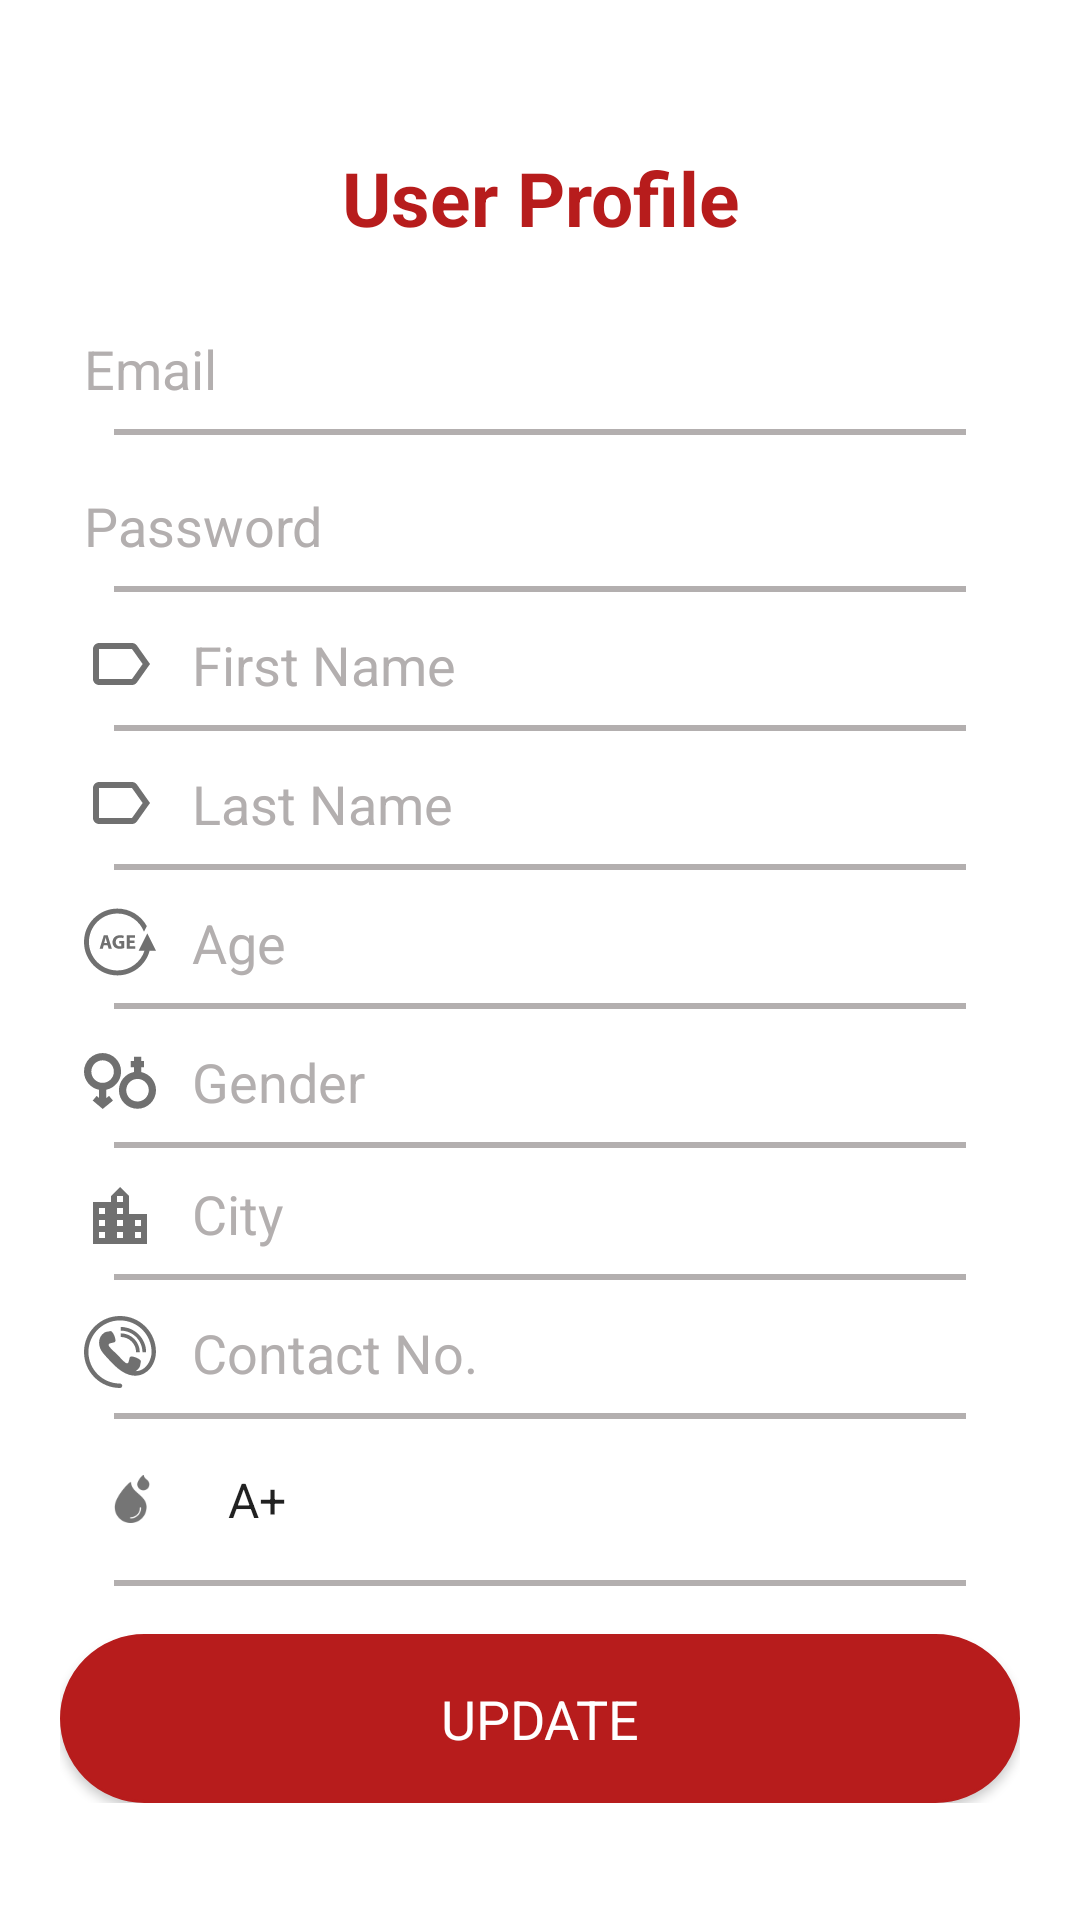

Where to tap for icons on this 1080w x 1920h app screen, as (x=x, y=y):
blood: (x=132, y=1499)
